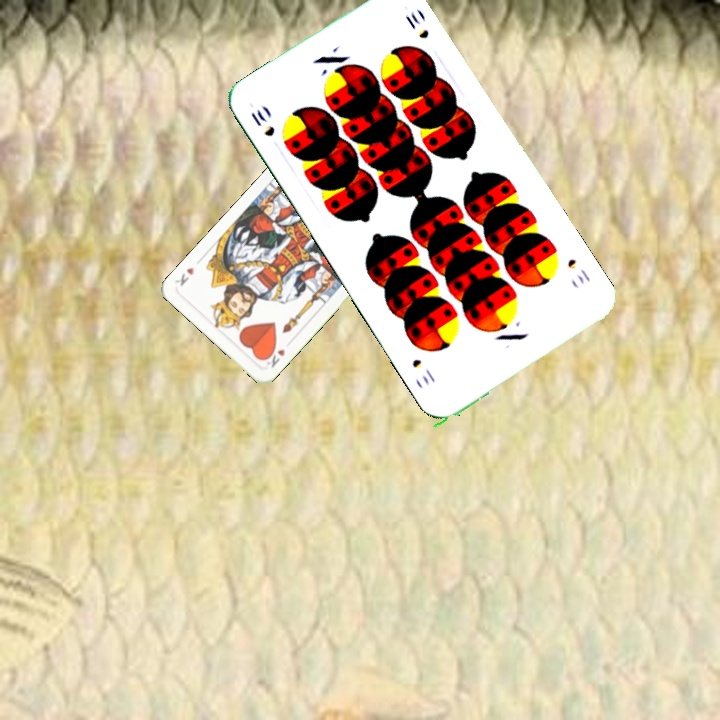HK: (260, 343, 288, 370)
S10: (246, 102, 278, 140), (563, 254, 594, 287)
